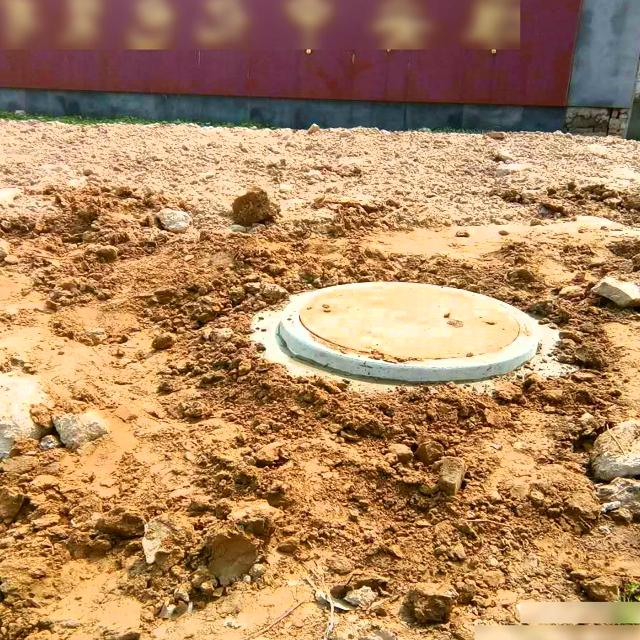good: (258, 275, 541, 369)
